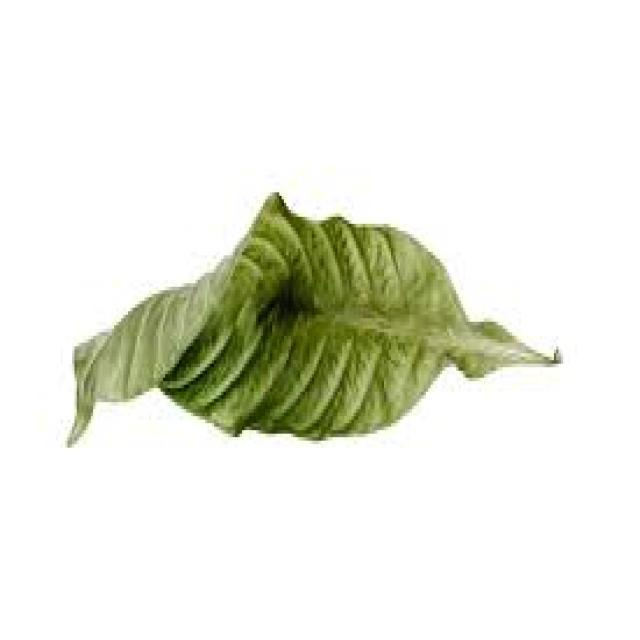leaf: (65, 190, 561, 446)
